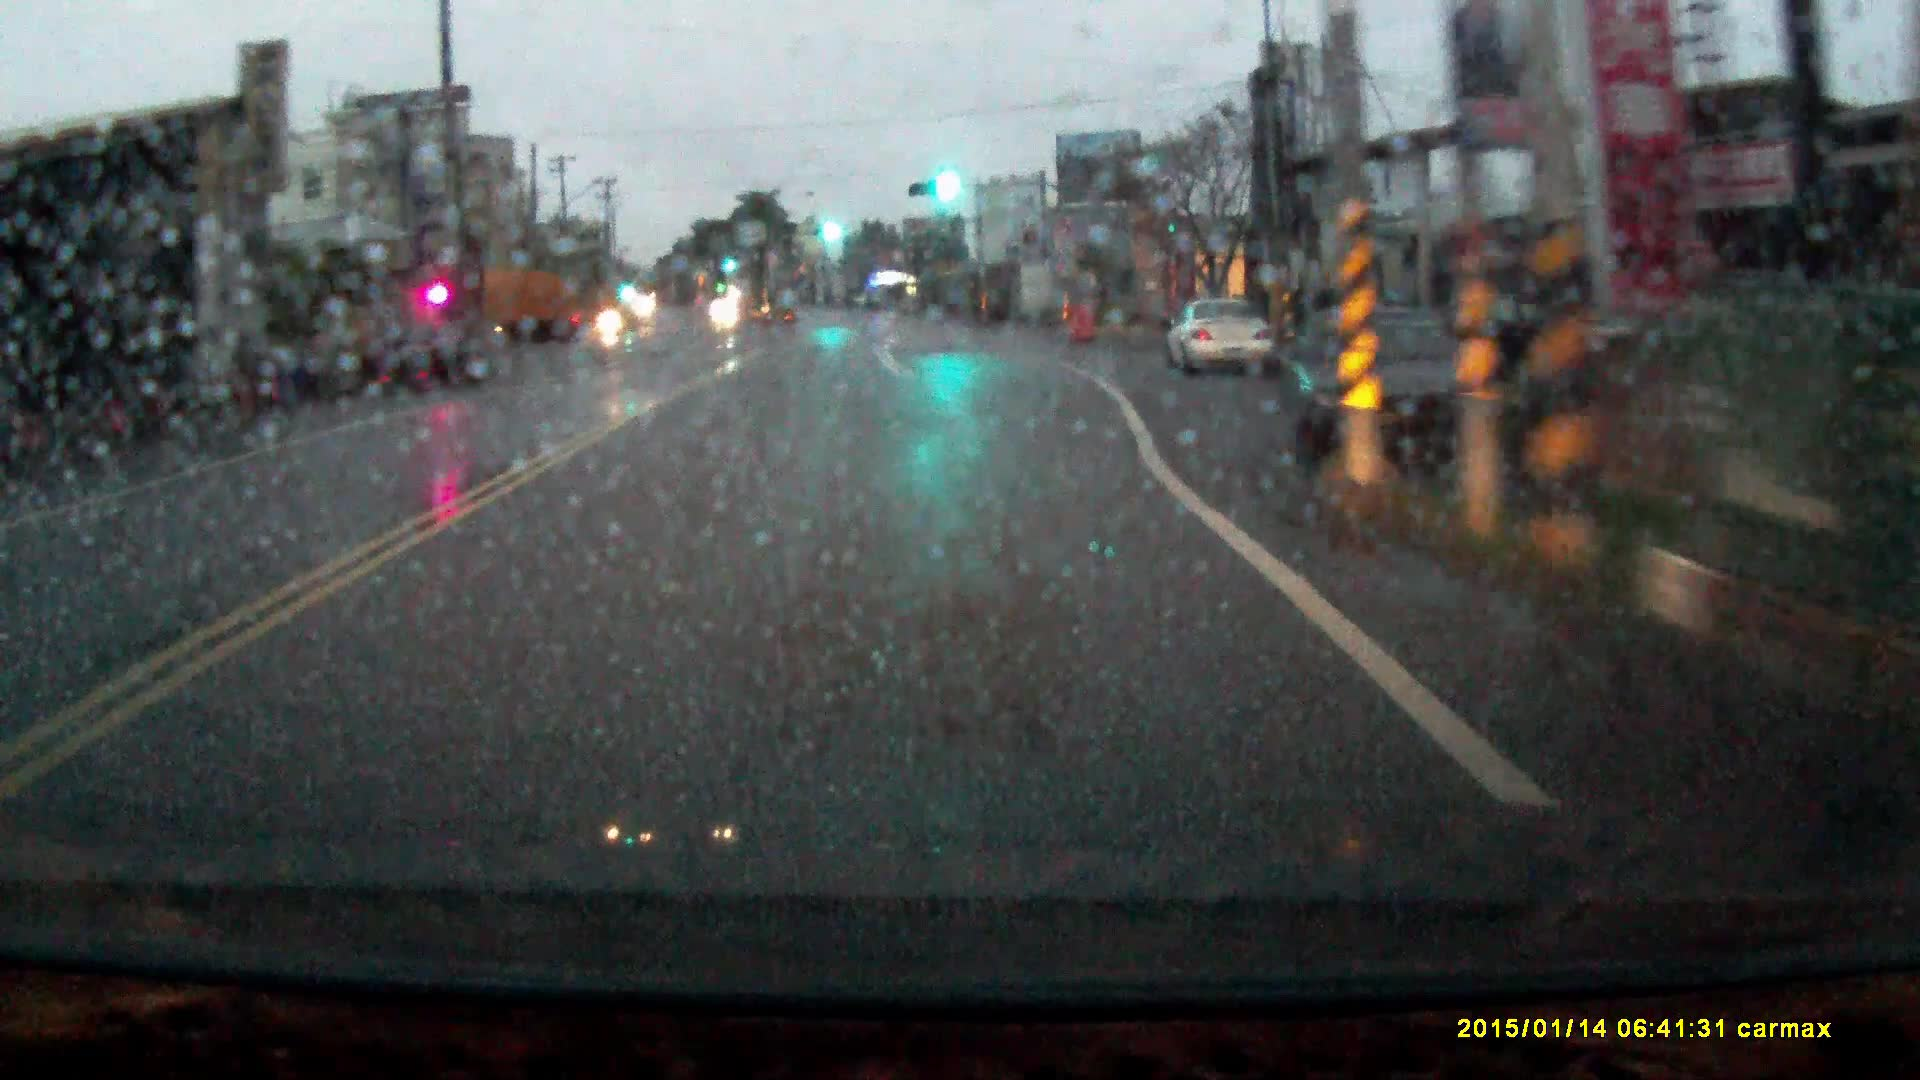rider: (594, 296, 628, 354)
vehicle: (1270, 310, 1498, 464), (1160, 288, 1276, 366), (483, 259, 584, 341), (368, 316, 478, 383), (711, 293, 740, 317)
